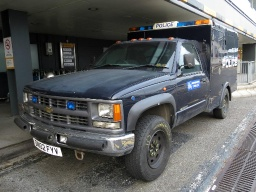car: (14, 16, 246, 182)
